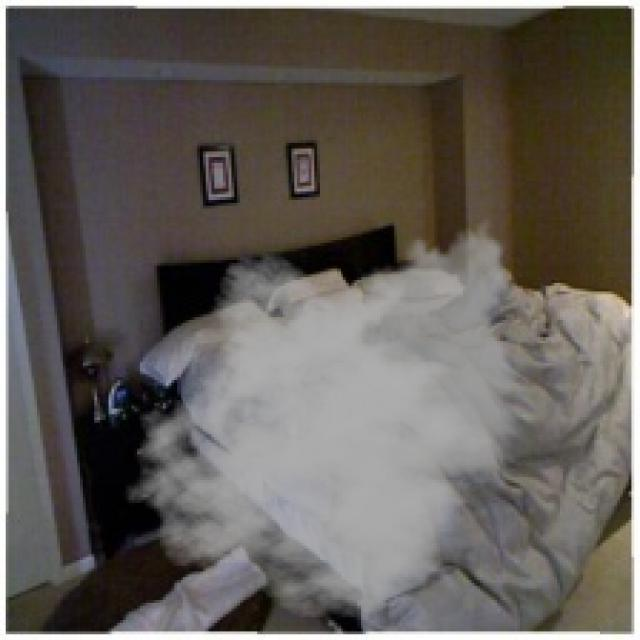Smoke: (123, 211, 532, 620)
